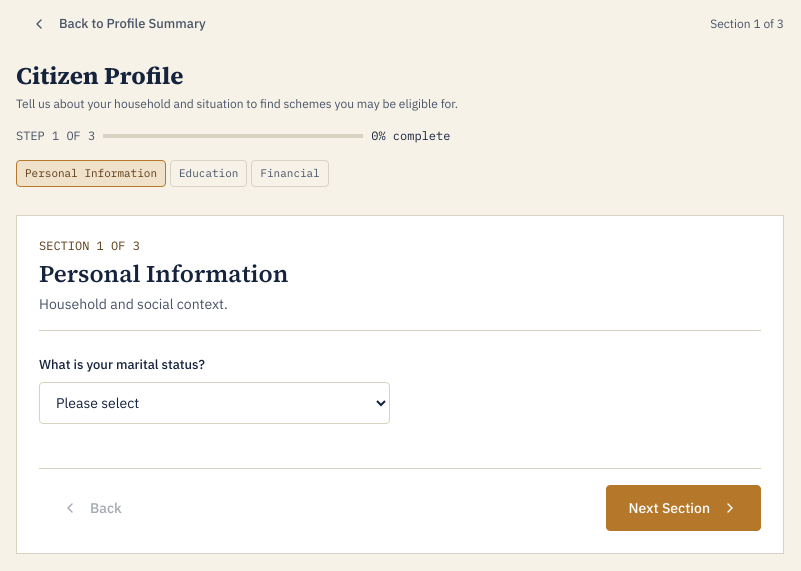
Test: CheckEligibilityPage — wizard navigation and draft answers › navigates forward and backward through wizard sections
expect the heading "Citizen Profile" is shown: met, box top-left (16, 59), bottom-right (183, 92)
Select "Married" in the dropdown labelled "What is your marital status?" at (214, 403), box top-left (39, 382), bottom-right (390, 424)
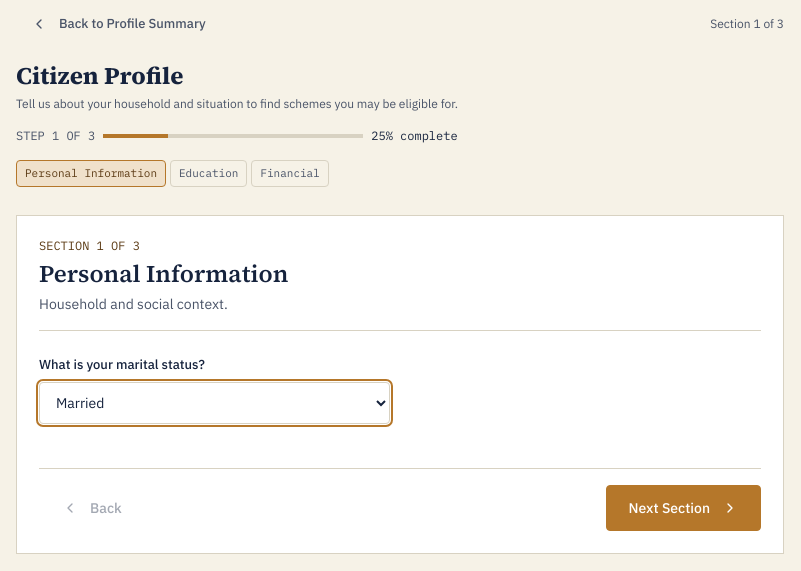
Click the button "Next Section" at (683, 508), box top-left (606, 485), bottom-right (761, 531)
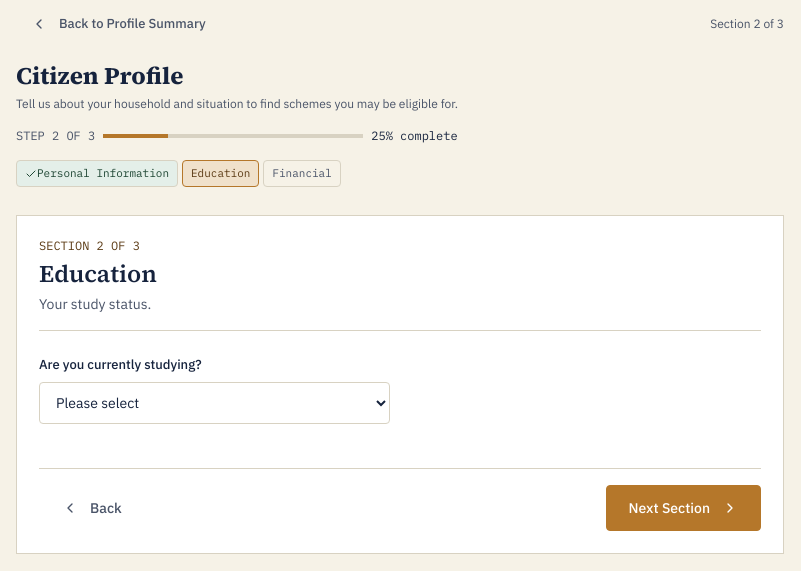
expect the text "Section 2 of 3" is shown: met, box top-left (710, 16), bottom-right (784, 32)
Click the button "Back" at (92, 508), box top-left (39, 485), bottom-right (145, 531)
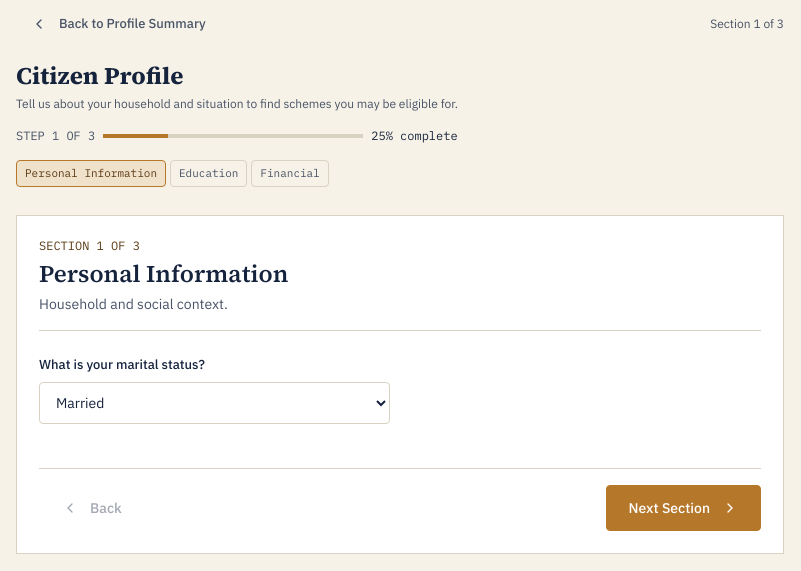
expect the text "Section 1 of 3" is shown: met, box top-left (710, 16), bottom-right (784, 32)
expect the dropdown labelled "What is your marital status?" shows "Married": met, box top-left (39, 382), bottom-right (390, 424)
